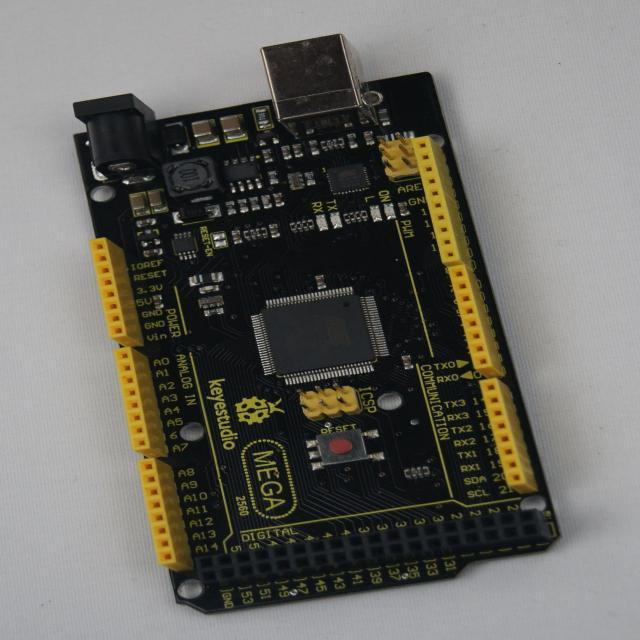Arduino Mega 2560 -Yellow-: (75, 35, 559, 614)
